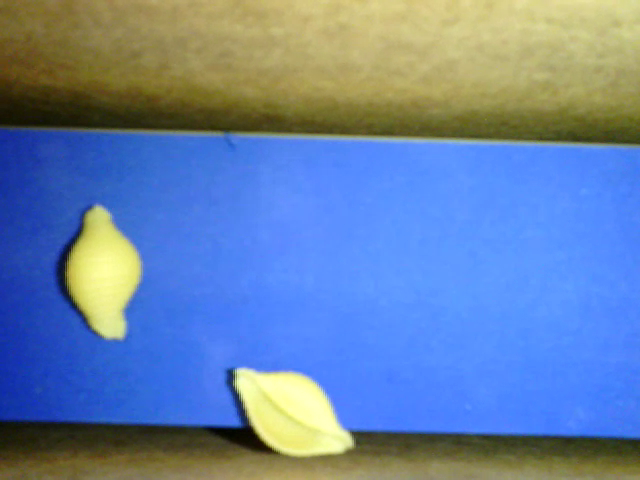shell: (63, 203, 143, 341), (232, 367, 354, 456)
